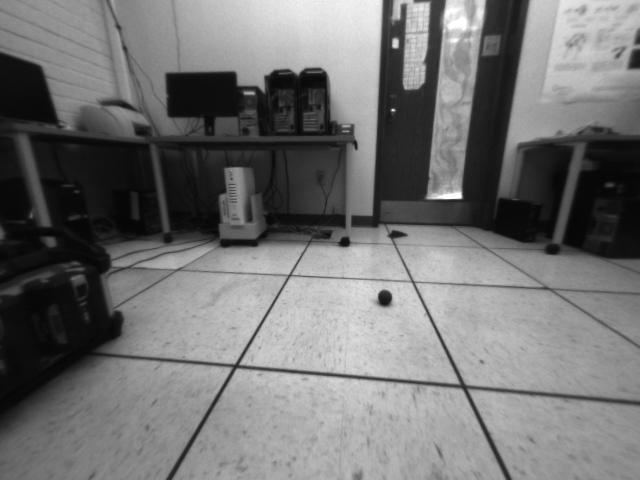dogtoy: (373, 282, 398, 310)
